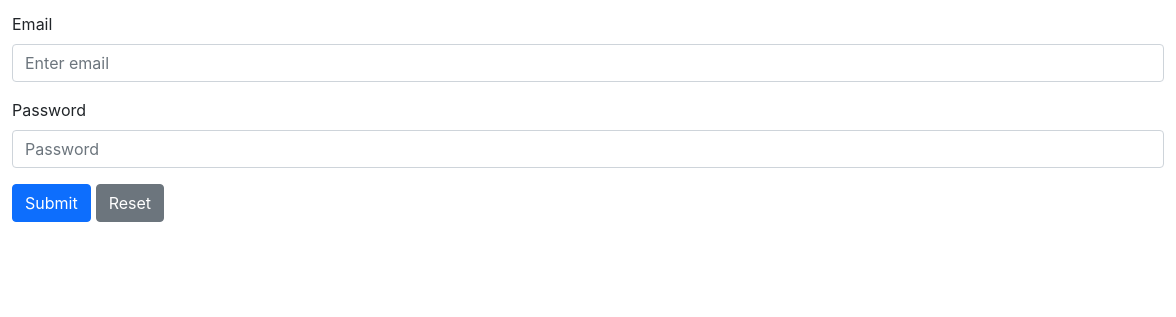
Testing Login Component › should be able to display error
Step 1. Type "harshi" into the field with placeholder "Enter email" → (588, 63), box [12,44,1164,82]
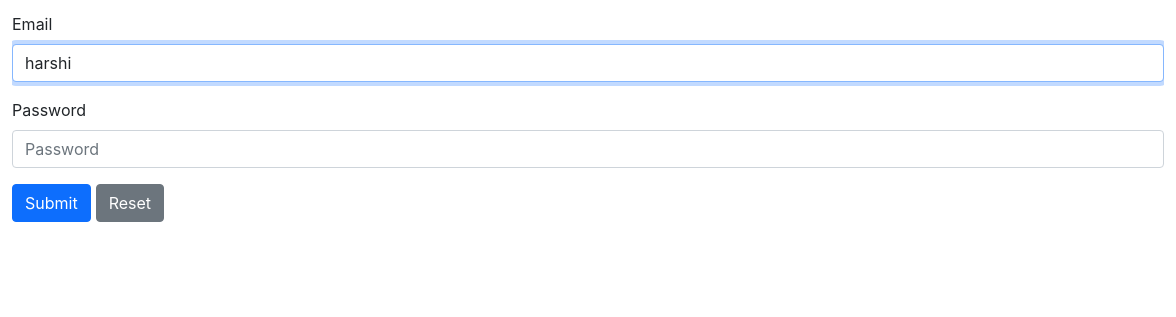
Step 2. Type "1234" into the password field with placeholder "Password" → (588, 149), box [12,130,1164,168]
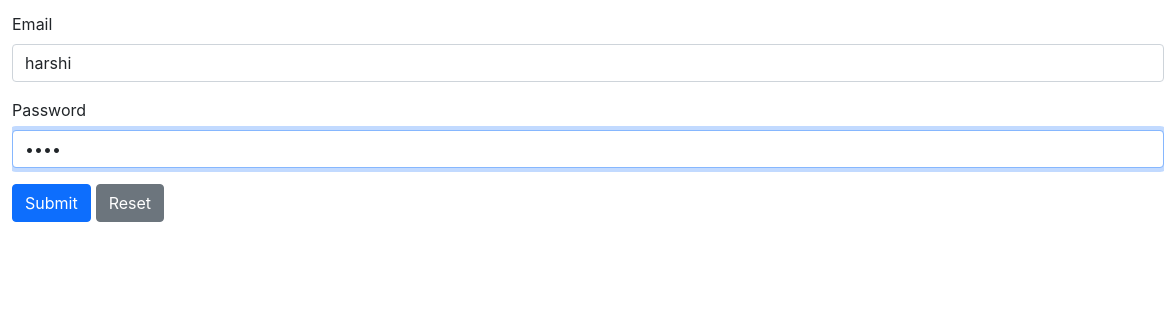
Step 3. Click the button with test id "submit" → click(51, 203), box [12,184,91,222]
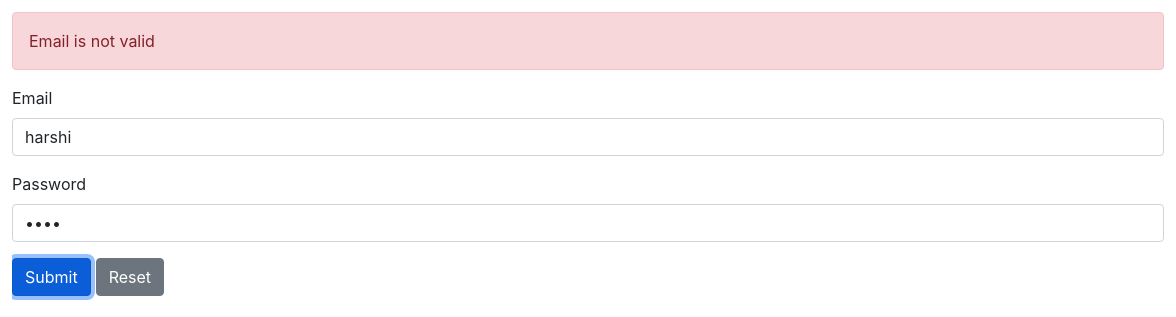
expect the text "Email is not valid" is shown: met, box [12,12,1164,70]
